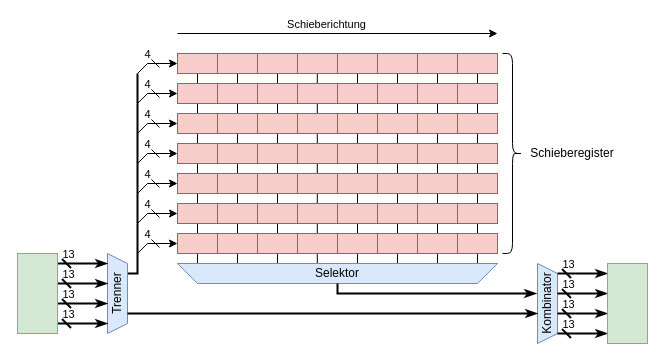
The diagram is 665 pixels wide and 361 high, and some of its shapes have lost their labels. Each missing label, with the box of its shape:
Ausgabe: 4 Tiles: (606, 262, 648, 344)
Eingabe: 4 Tiles: (16, 252, 58, 334)
